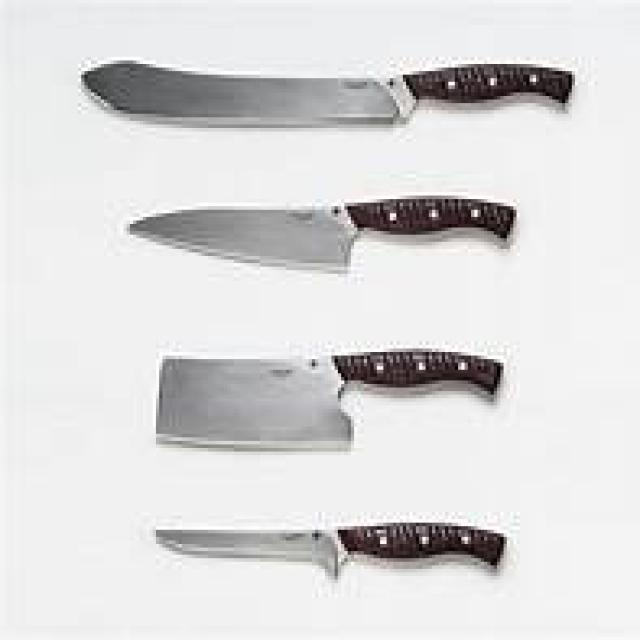Knife: (159, 348, 500, 444), (84, 60, 569, 124), (133, 199, 510, 267), (156, 523, 504, 572)
